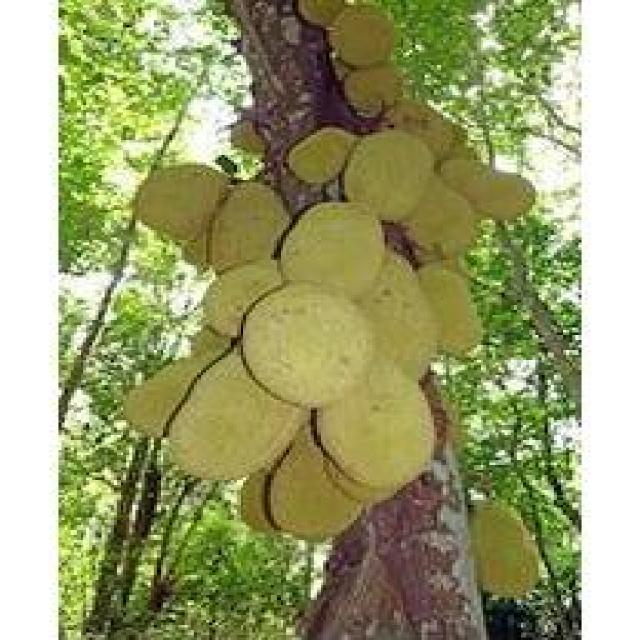Fruit: (194, 167, 508, 565)
